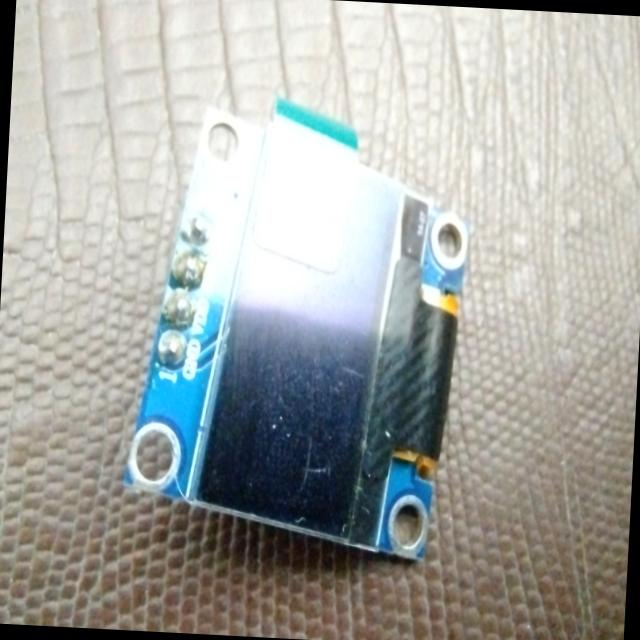oled: (119, 83, 485, 578)
